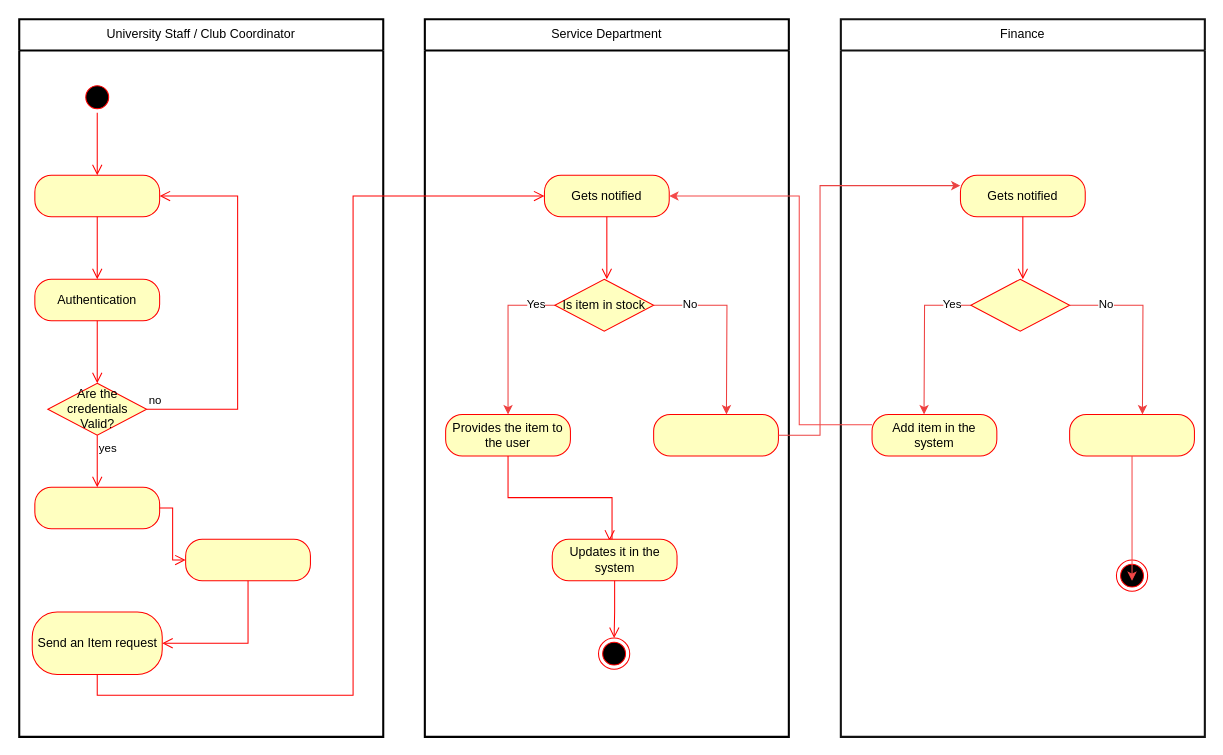
The diagram is 1223 pixels wide and 755 high, and some of its shapes have lost their labels. Here are the shapes that lost their labels. From the top down, the centre of each, then its label:
point 97,195: Puts username and password
point 1020,304: Should we Buy it?
point 715,434: Forwards the request to finance
point 1131,434: Notifies University Staff or Club coordinator
point 97,507: Activity
point 247,559: Homepage
